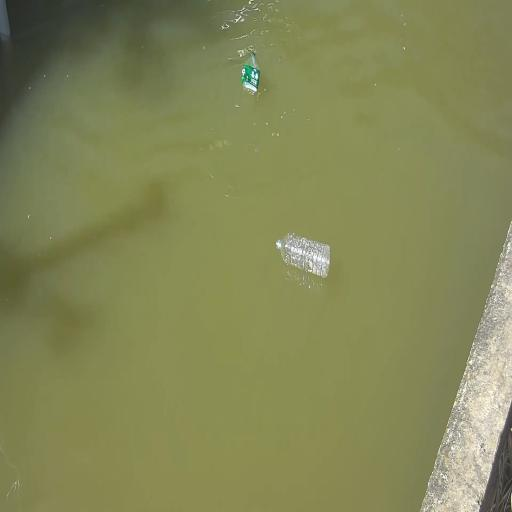plastic: (276, 230, 332, 280), (239, 50, 261, 94)
